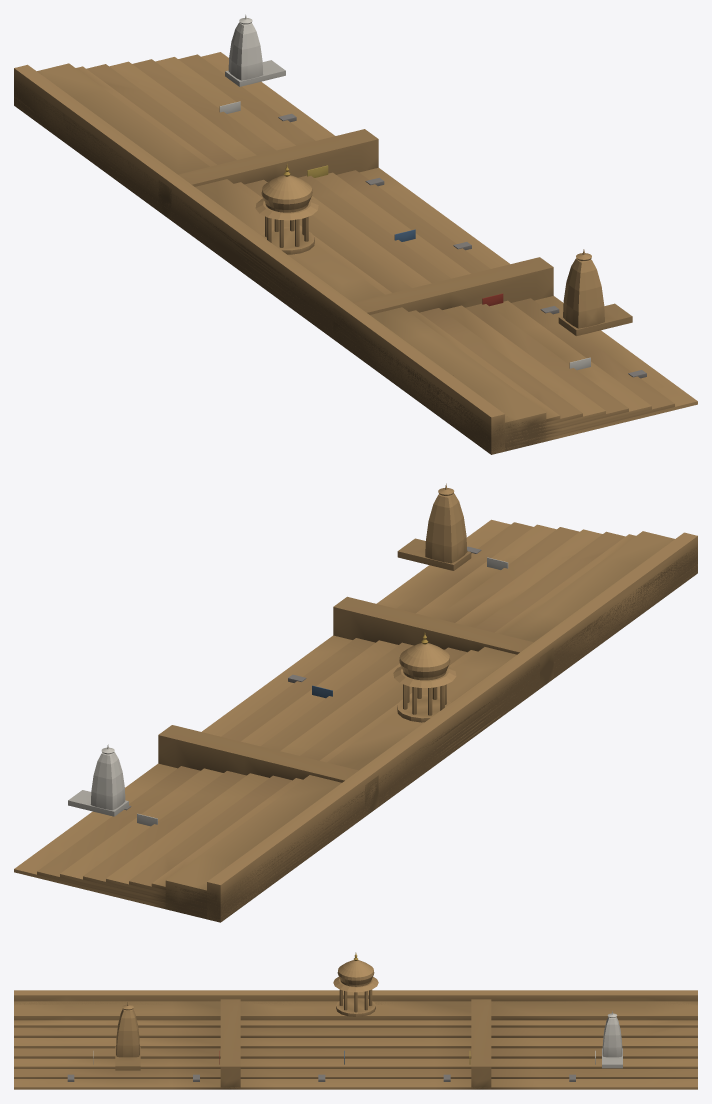
The model's file is ghats.glb.
The picture shows the model from 3 angles, top to bottom: view 1: azimuth 30°, elevation 25°; view 2: azimuth 150°, elevation 25°; view 3: azimuth 270°, elevation 25°; orthographic projection. The views are drawn at different scales.
Visible parts, largest first — view 1: p0_steps, p1_shrines; view 2: p0_steps, p1_shrines; view 3: p0_steps, p1_shrines.
Part boxes in pixels (x1,y1,x2,y2): p0_steps: (14, 52, 697, 454); p1_shrines: (219, 14, 646, 378); p0_steps: (14, 519, 697, 922); p1_shrines: (68, 483, 508, 826); p0_steps: (14, 990, 697, 1089); p1_shrines: (67, 952, 622, 1081).
Size of the model in its own units: 30.78 by 15.06 by 120.
